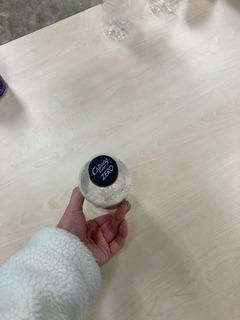BIODEGRADABLE: (76, 148, 134, 212)
